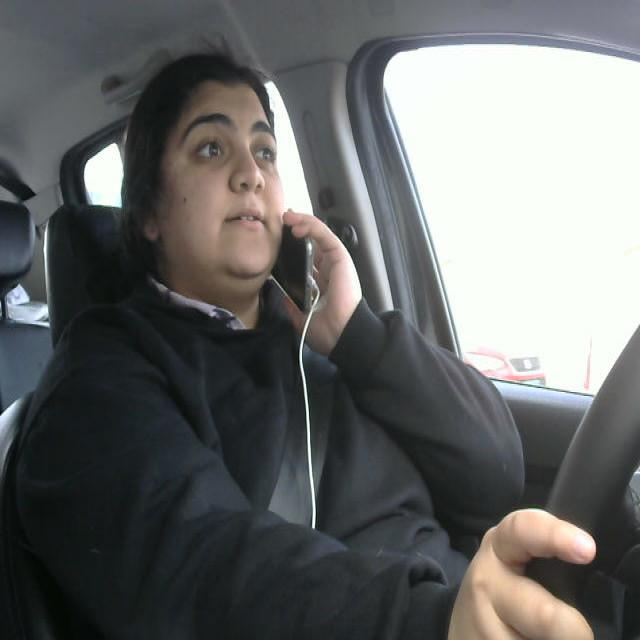mobile use: (273, 208, 324, 318)
